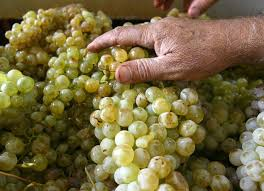Green grapes: (98, 78, 230, 191), (8, 16, 91, 136)
